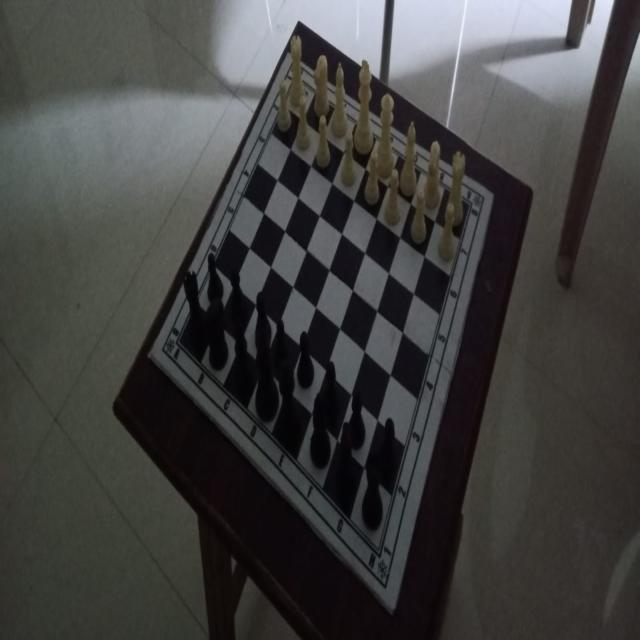corners: (386, 589, 400, 622), (145, 342, 157, 364), (281, 44, 293, 65), (488, 185, 498, 205)
